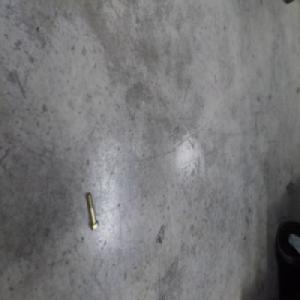Bolt: (85, 191, 99, 231)
